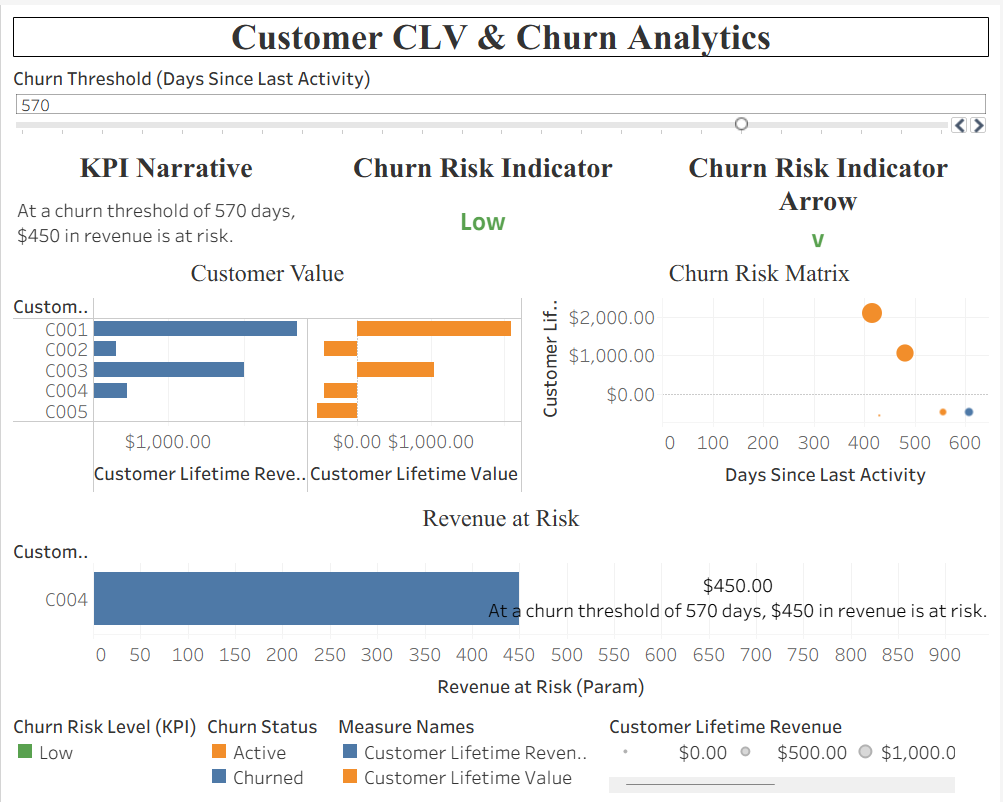

Layout of this report page (visuals, bound fields, positions):
{"tool":"tableau","page":{"name":"Customer CLV & Churn Analytics","canvas":[1000,800],"ordinal":0},"visuals":[{"type":"title","box":[8,8,984,48]},{"type":"parameter","param":"[Parameters].[Customers.csv Parameter]","box":[8,56,984,83]},{"type":"worksheet","title":"KPI Narrative","mark":"Text","box":[8,139,314,108]},{"type":"worksheet","title":"Churn Risk Indicator","mark":"Text","box":[322,139,320,108]},{"type":"worksheet","title":"Churn Risk Indicator Arrow","mark":"Text","box":[642,139,350,108]},{"type":"worksheet","title":"Customer Value","mark":"Bar","rows":["Customer_ID"],"cols":["Calculation_1987128531902464","Calculation_1987128532197377"],"box":[8,247,517,245]},{"type":"worksheet","title":"Churn Risk Matrix","mark":"Circle","rows":["Calculation_1987128532197377"],"cols":["Calculation_1987128532344834"],"box":[525,247,467,245]},{"type":"worksheet","title":"Revenue at Risk","mark":"Bar","rows":["Customer_ID"],"cols":["Calculation_1987128907517959"],"box":[8,492,984,212]},{"type":"legend","title":"Churn Risk Indicator","param":"[federated.0ifj42b15z5nwi13f39no1k4ow1e].[usr:Calculation_1987128923054093:nk]","box":[8,704,194,59]},{"type":"legend","title":"Churn Risk Matrix","param":"[federated.0ifj42b15z5nwi13f39no1k4ow1e].[none:Calculation_1987128534392835:nk]","box":[202,704,131,88]},{"type":"legend","title":"Customer Value","param":"[federated.0ifj42b15z5nwi13f39no1k4ow1e].[:Measure Names]","box":[333,704,271,88]},{"type":"legend","title":"Churn Risk Matrix","param":"[federated.0ifj42b15z5nwi13f39no1k4ow1e].[sum:Calculation_1987128531902464:qk]","box":[604,704,356,88]}]}

Visuals, with their boxes in screenshot pixels (x1, y1, x2, y2), scaled from the page's 1000x800 canvas onto the 1003x802 screenshot:
title: box(8, 8, 995, 56)
parameter: box(8, 56, 995, 139)
"KPI Narrative" worksheet (Text marks): box(8, 139, 323, 248)
"Churn Risk Indicator" worksheet (Text marks): box(323, 139, 644, 248)
"Churn Risk Indicator Arrow" worksheet (Text marks): box(644, 139, 995, 248)
"Customer Value" worksheet (Bar marks): box(8, 248, 527, 493)
"Churn Risk Matrix" worksheet (Circle marks): box(527, 248, 995, 493)
"Revenue at Risk" worksheet (Bar marks): box(8, 493, 995, 706)
"Churn Risk Indicator" legend: box(8, 706, 203, 765)
"Churn Risk Matrix" legend: box(203, 706, 334, 794)
"Customer Value" legend: box(334, 706, 606, 794)
"Churn Risk Matrix" legend: box(606, 706, 963, 794)
